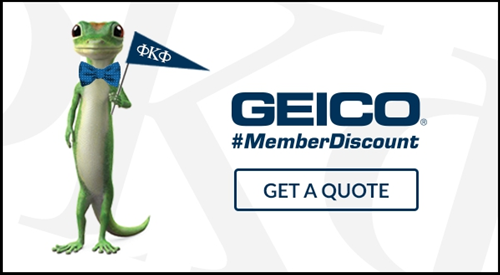Geico: (231, 87, 432, 128)
